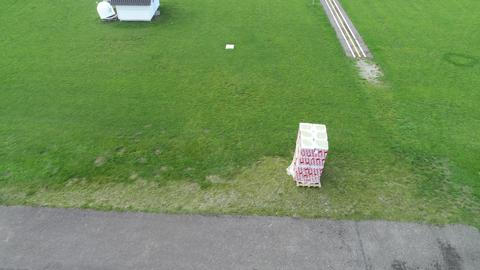RockwoolPallet: (285, 122, 330, 187)
